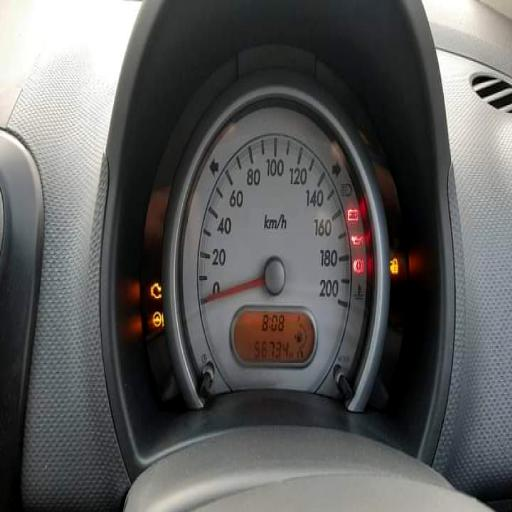brake_system_fault: (354, 256, 364, 274)
check_engine: (150, 281, 162, 298)
oil: (351, 233, 363, 247)
vehicle_charging: (348, 208, 358, 222)
